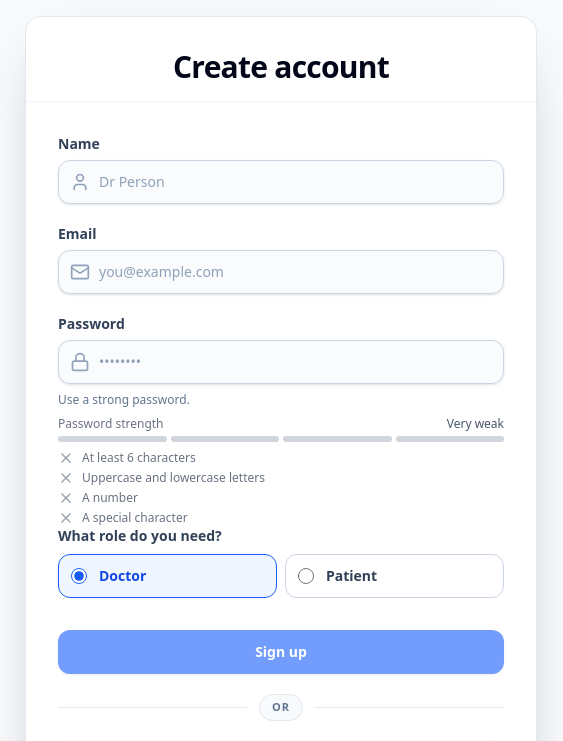
it: SignUpPage › doctor role is selected by default and patient selection changes the checked role
Expected: the radio button labelled "Doctor" is checked, [71,568,87,584]
Click the radio button labelled "Patient" at (306, 576), box [298,568,314,584]
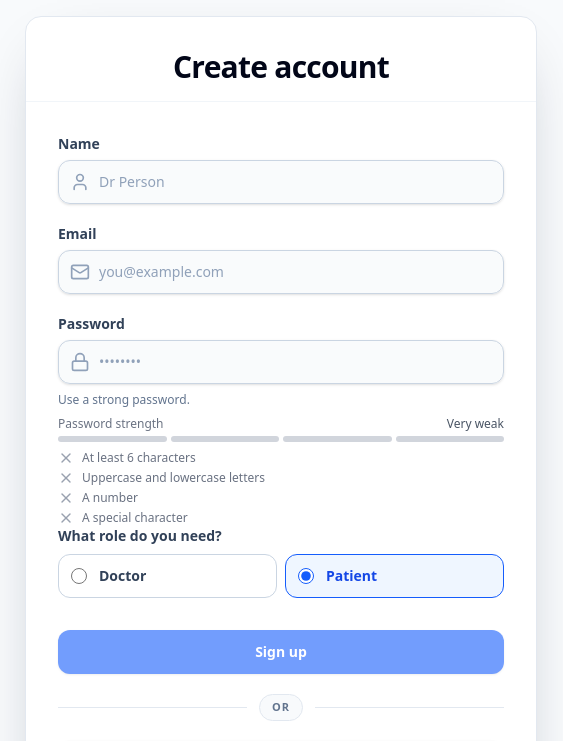
Now the radio button labelled "Patient" is checked, box [298,568,314,584]
Now the radio button labelled "Doctor" is not checked, box [71,568,87,584]
